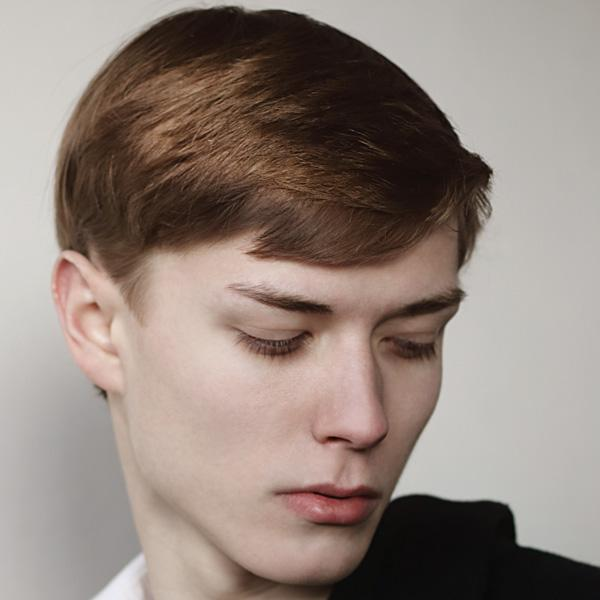Eyes: (218, 306, 322, 371), (372, 319, 446, 371)
